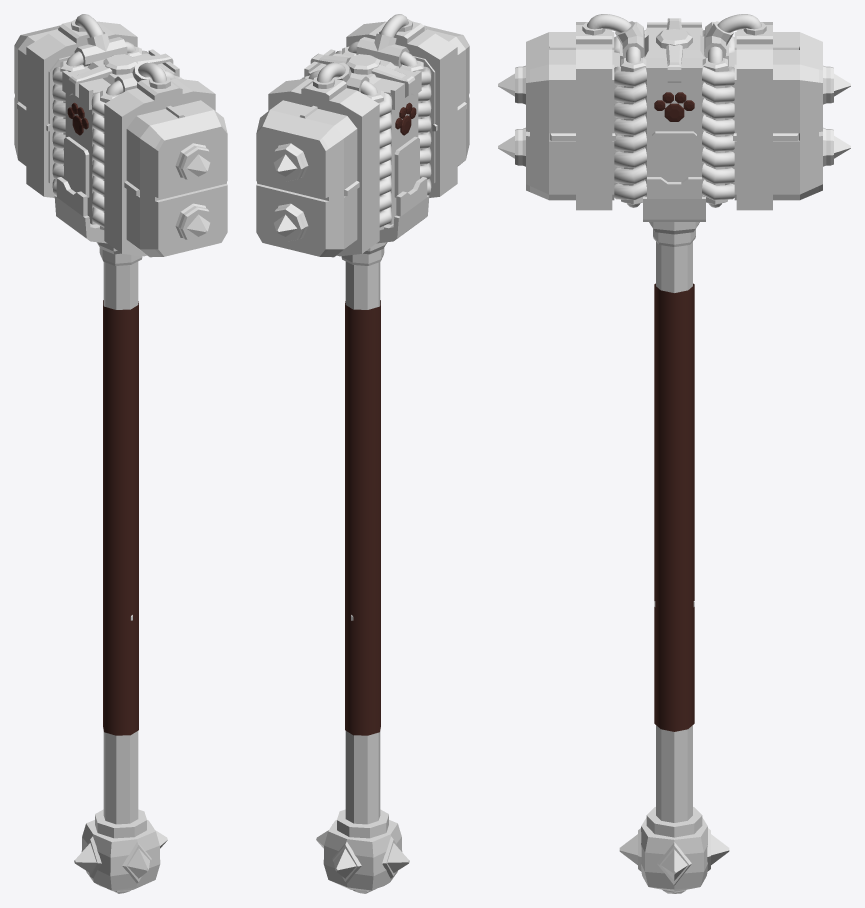
File: Purrcusser.fbx
The picture shows the model from 3 angles, left to right: view 1: azimuth 30°, elevation 25°; view 2: azimuth 150°, elevation 25°; view 3: azimuth 270°, elevation 25°; orthographic projection. The views are drawn at different scales.
Parts seen in each view (by area): view 1: New Purrcusser; view 2: New Purrcusser; view 3: New Purrcusser.
Part boxes in pixels (x1,y1,x2,y2): New Purrcusser: (14, 14, 227, 893); New Purrcusser: (256, 14, 469, 893); New Purrcusser: (498, 14, 850, 893).
Bounding box in the file's own units: 24.24 × 193 × 70.31.
